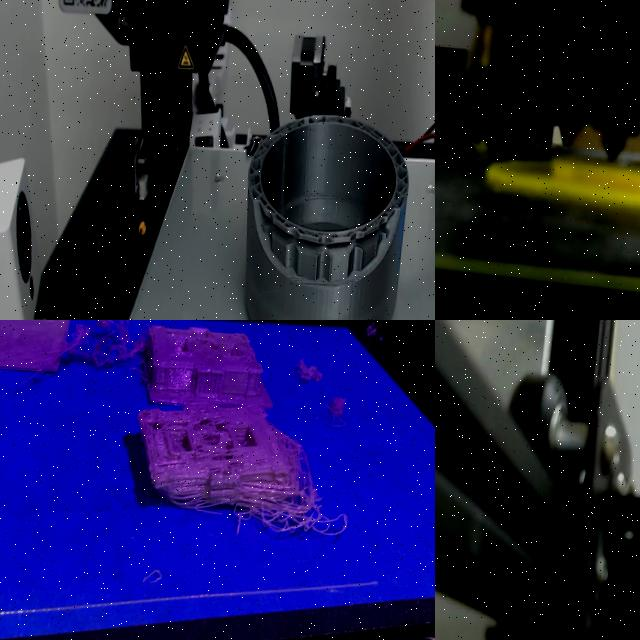spaghetti: (217, 435, 363, 543), (0, 320, 156, 380), (285, 350, 360, 430)
